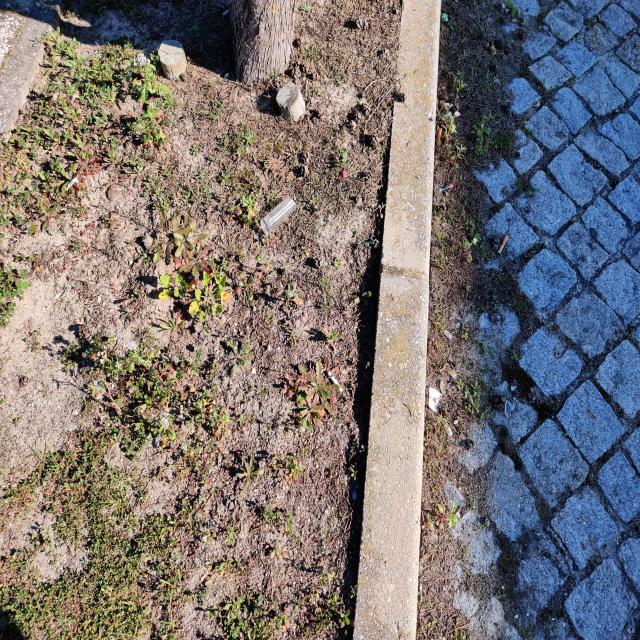litter: (260, 196, 296, 235), (428, 386, 443, 413), (327, 370, 343, 393), (497, 236, 508, 255), (505, 401, 515, 418), (438, 183, 453, 193), (443, 423, 453, 438), (68, 177, 79, 189), (441, 13, 448, 21), (352, 493, 357, 500)
